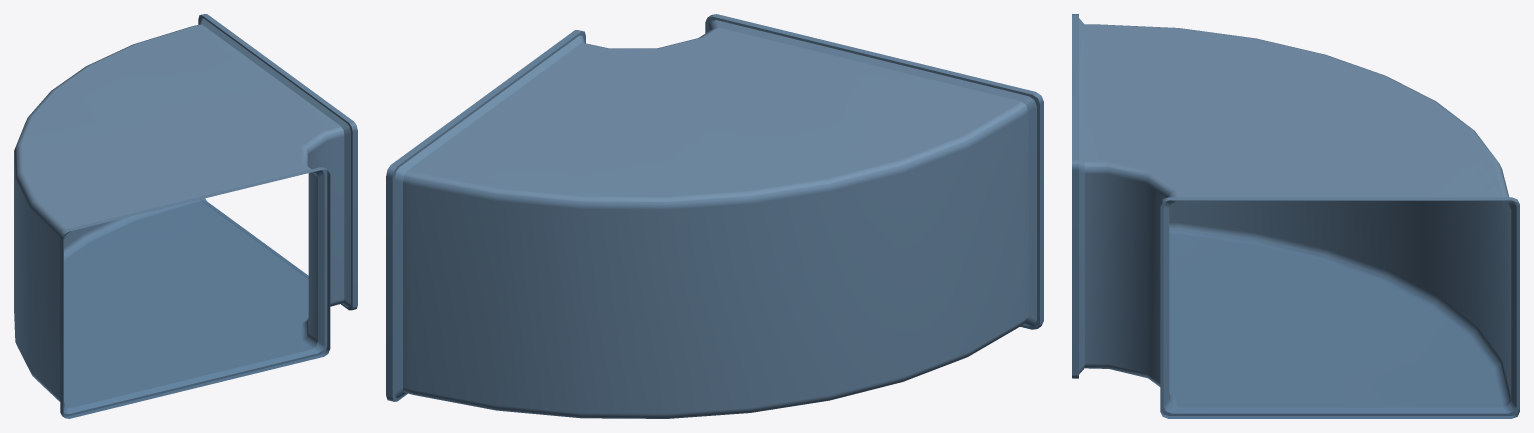
Rendered from vent_4.fbx.
3 views of the same model, side by side, from view 1: azimuth 30°, elevation 25°; view 2: azimuth 150°, elevation 25°; view 3: azimuth 270°, elevation 25° (orthographic). The views are drawn at different scales.
Visible parts, largest first — view 1: vent_4; view 2: vent_4; view 3: vent_4.
Boxes of the visible parts, <box> form: vent_4: <box>14,14,357,418</box>; vent_4: <box>386,14,1043,418</box>; vent_4: <box>1072,14,1519,418</box>.
Size of the model in its own units: 78.58 by 42.34 by 78.58.
